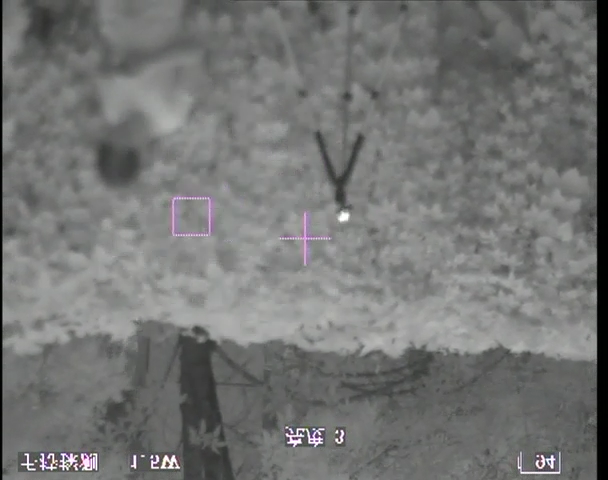my: (336, 210, 350, 223)
